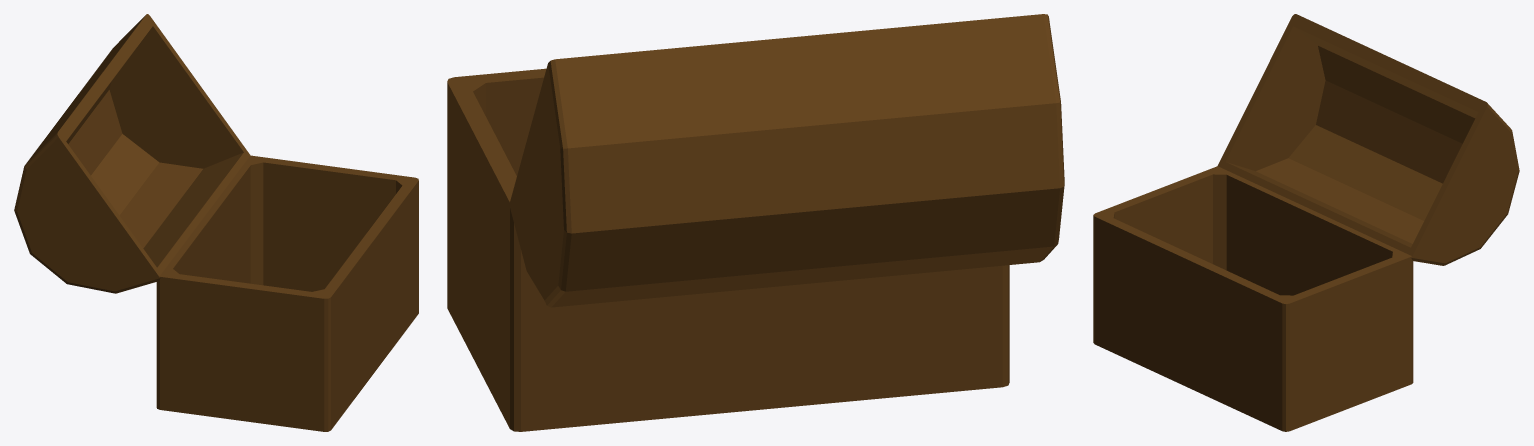
The model's file is schatkist.fbx.
3 views of the same model, side by side, from view 1: azimuth 30°, elevation 25°; view 2: azimuth 150°, elevation 25°; view 3: azimuth 270°, elevation 25° (orthographic). The views are drawn at different scales.
Parts seen in each view (by area): view 1: Schatkist Onderstuk; view 2: Schatkist Onderstuk; view 3: Schatkist Onderstuk.
Part boxes in pixels (x1,y1,x2,y2): Schatkist Onderstuk: (14, 14, 418, 431); Schatkist Onderstuk: (447, 14, 1064, 431); Schatkist Onderstuk: (1093, 14, 1519, 431).
Bounding box in the file's own units: 129 × 84.28 × 130.
